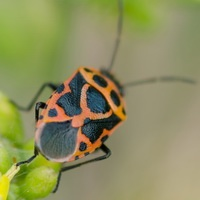insect: (43, 0, 199, 199), (0, 0, 117, 104)
